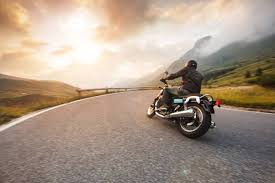motorcycle: (141, 73, 218, 136)
